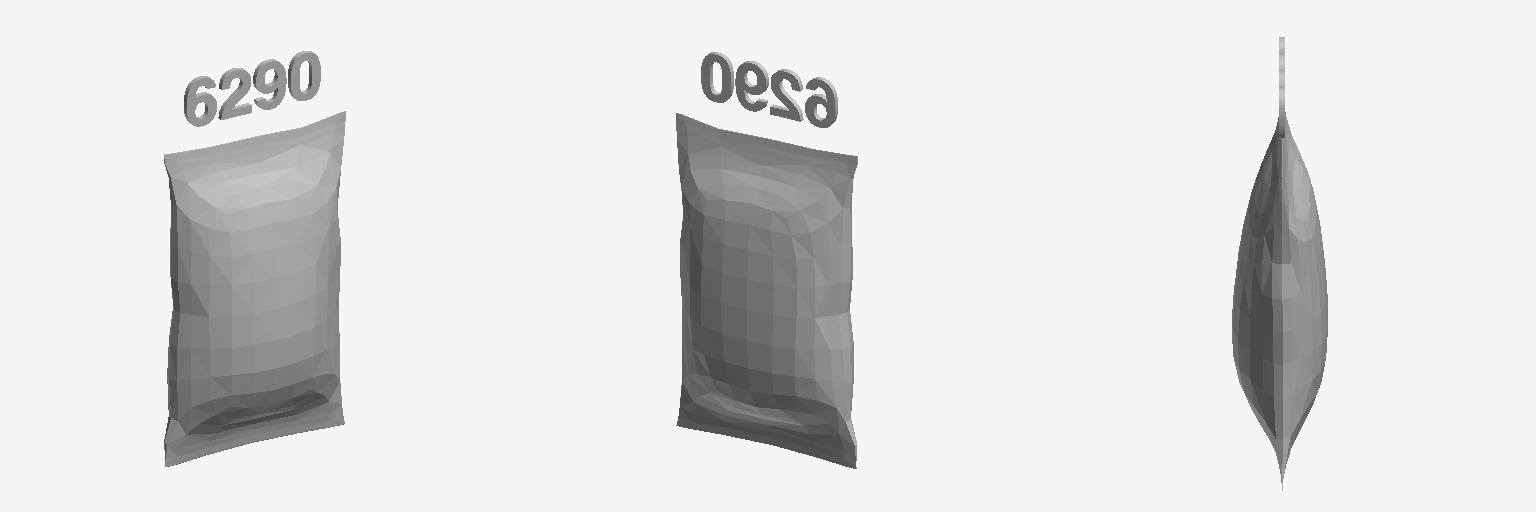
The model's file is PAPAS_CODIGO_6290.obj.
3 views of the same model, side by side, from view 1: azimuth 30°, elevation 25°; view 2: azimuth 150°, elevation 25°; view 3: azimuth 270°, elevation 25° (orthographic).
Visible parts, largest first — view 1: BOLSA_PAPAS_FRENTE, 6290; view 2: BOLSA_PAPAS_VUELTA, 6290; view 3: BOLSA_PAPAS_FRENTE, BOLSA_PAPAS_VUELTA, 6290.
Part boxes in pixels (left/top/right/bottom): BOLSA_PAPAS_FRENTE: left=164, top=111, right=345, bottom=466; 6290: left=184, top=51, right=320, bottom=126; BOLSA_PAPAS_VUELTA: left=676, top=113, right=857, bottom=468; 6290: left=701, top=52, right=837, bottom=127; BOLSA_PAPAS_FRENTE: left=1232, top=117, right=1282, bottom=482; BOLSA_PAPAS_VUELTA: left=1282, top=112, right=1327, bottom=490; 6290: left=1279, top=37, right=1284, bottom=138.
Size of the model in its own units: 1804 by 3626 by 831.